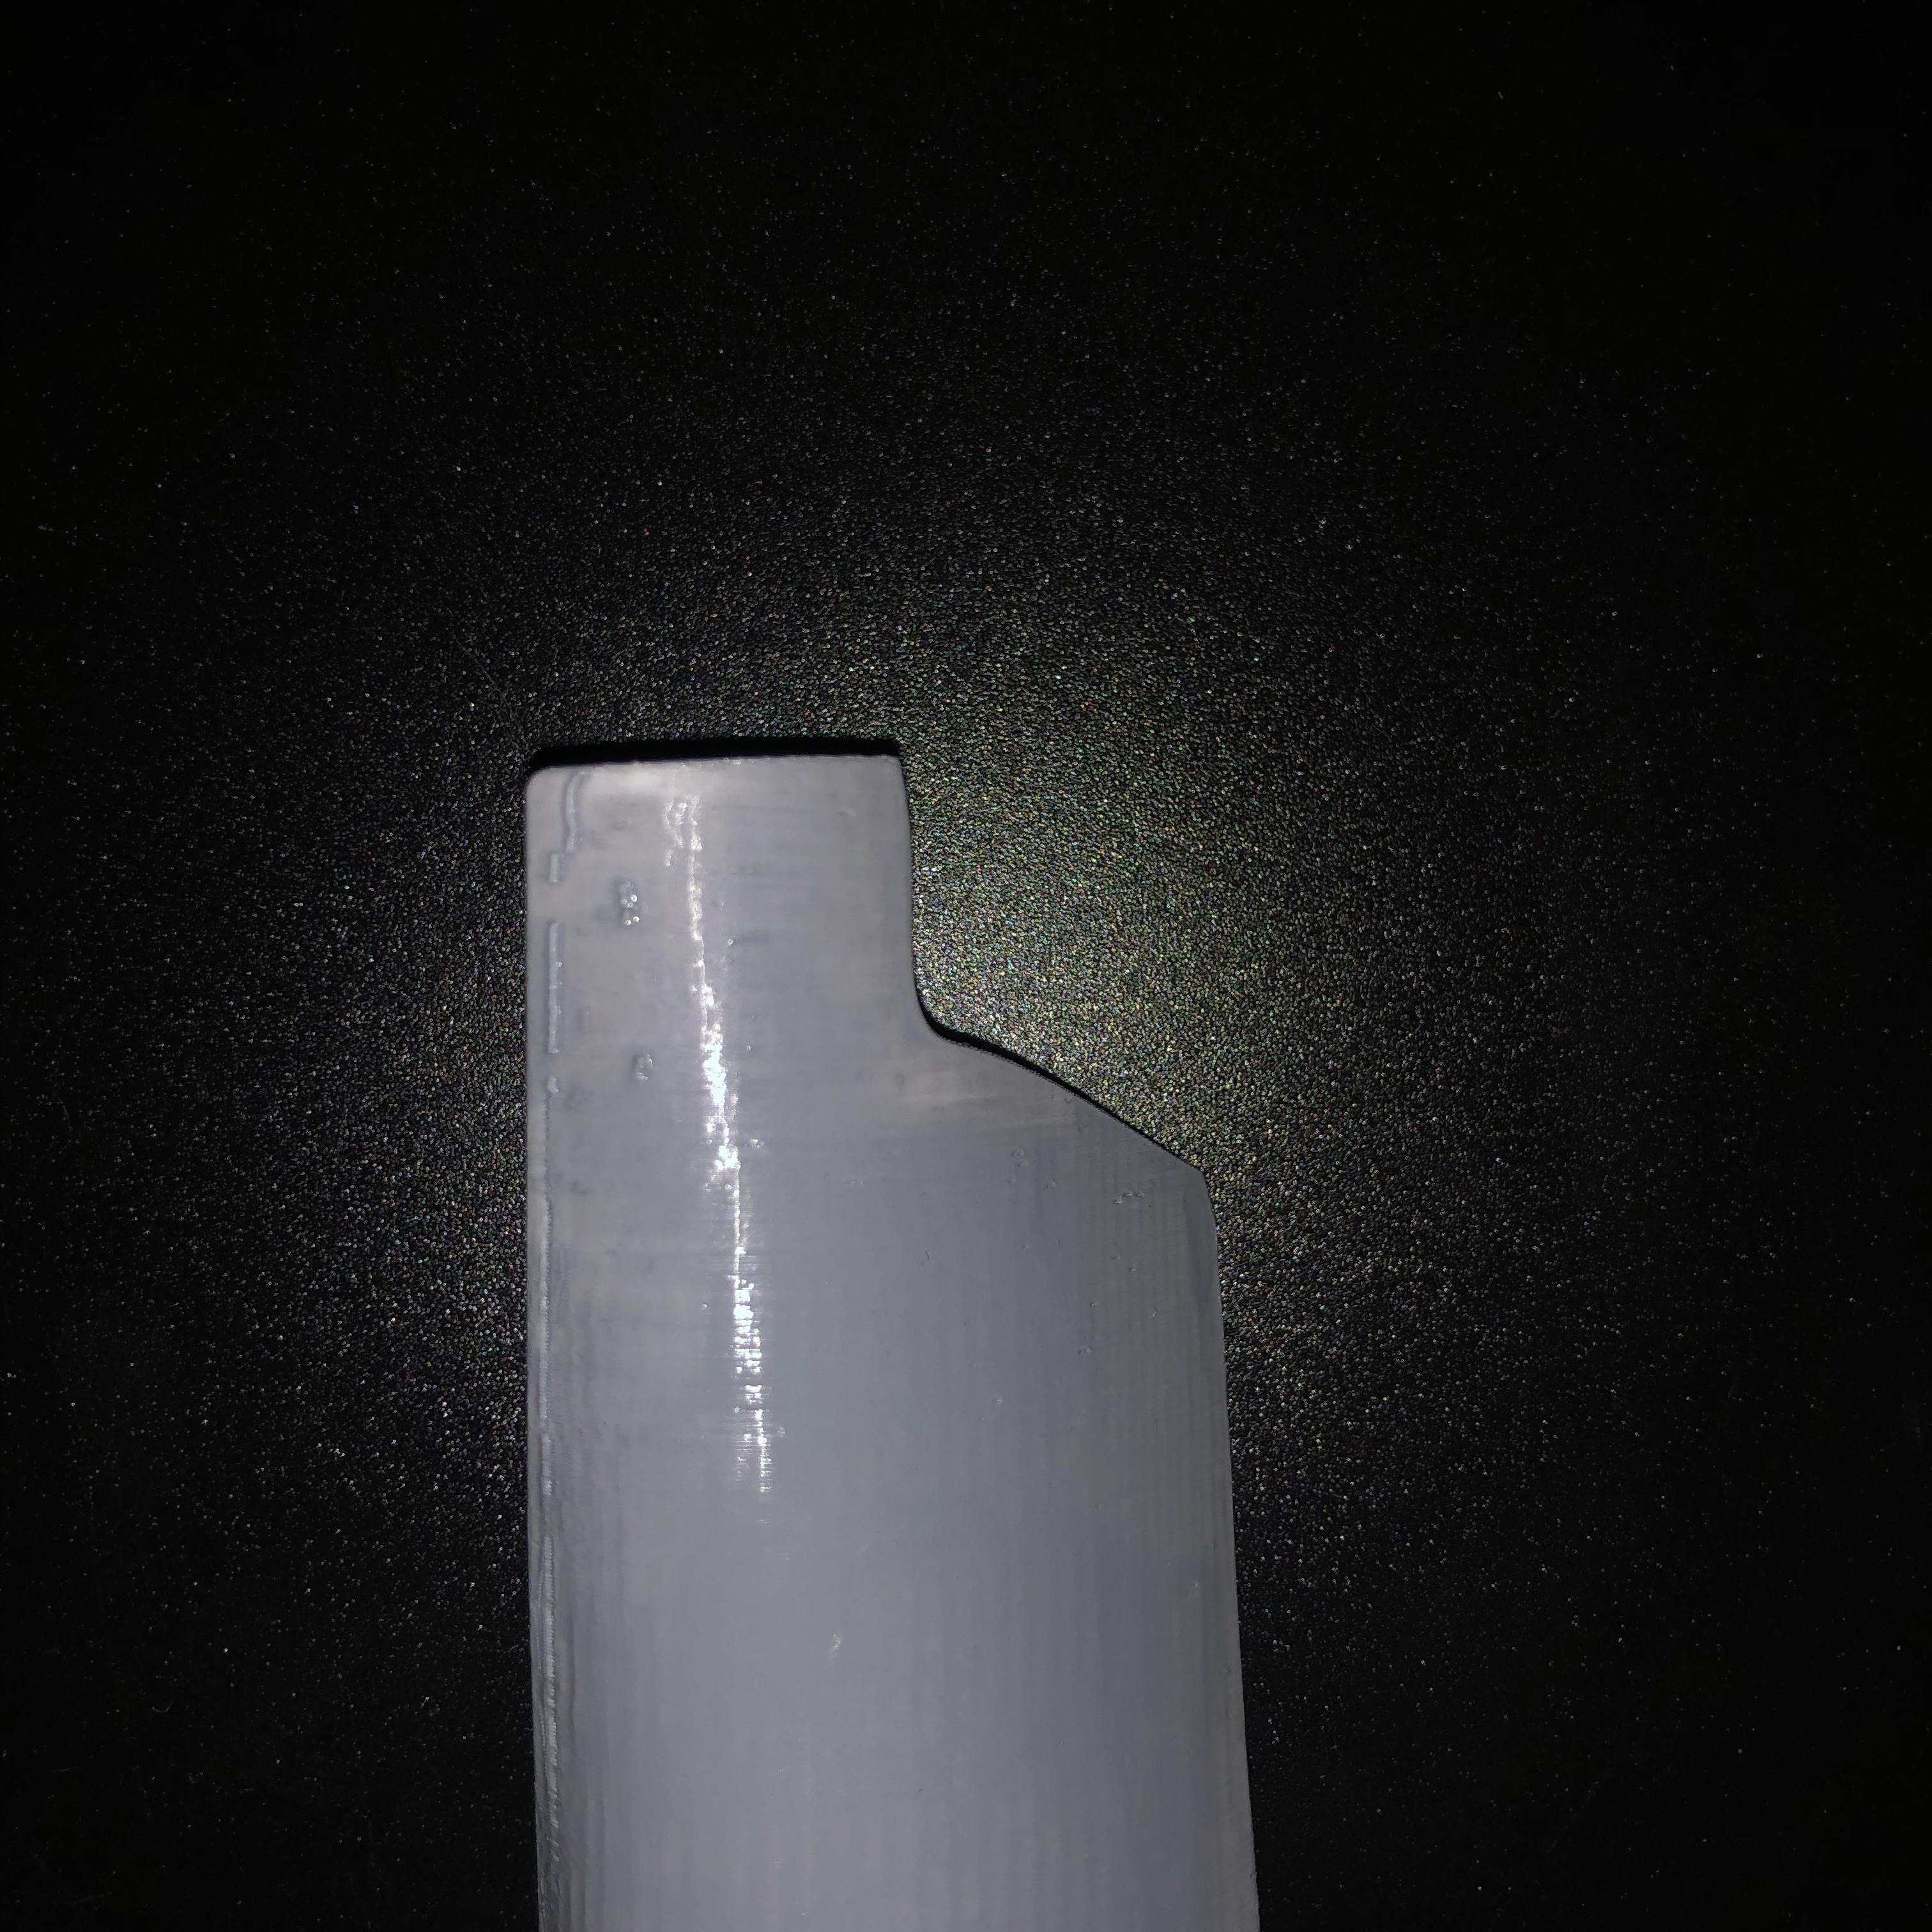fracture: (885, 773, 1207, 1168)
